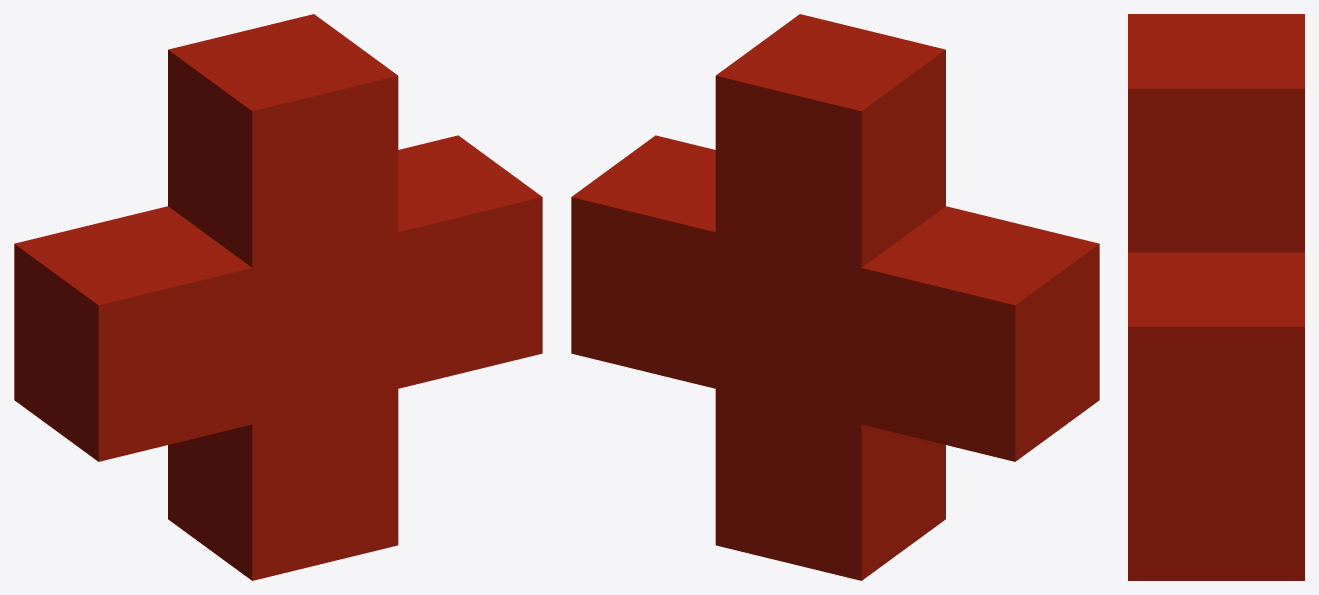
The model's file is hospital+.fbx.
The picture shows the model from 3 angles, left to right: view 1: azimuth 30°, elevation 25°; view 2: azimuth 150°, elevation 25°; view 3: azimuth 270°, elevation 25°; orthographic projection. The views are drawn at different scales.
Visible parts, largest first — view 1: Cube.042; view 2: Cube.042; view 3: Cube.042.
Boxes of the visible parts, x1,y1,x2,y2 form: Cube.042: (14,14,542,580); Cube.042: (571,14,1099,580); Cube.042: (1128,14,1304,580).
Size of the model in its own units: 608 by 615 by 200.
